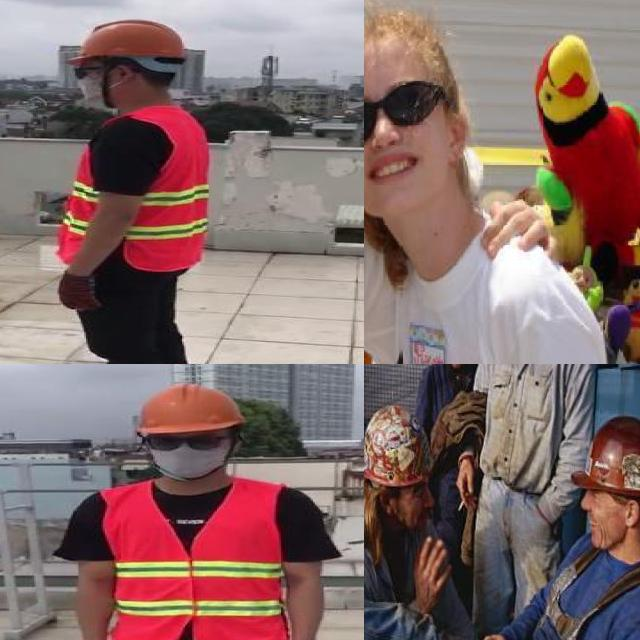Harness: (541, 549, 640, 640)
face_mask: (140, 428, 234, 476)
face_nomask: (364, 84, 432, 186)
glasses: (364, 80, 447, 152), (136, 432, 229, 454)
hand_glove: (54, 274, 97, 311)
hand_noglove: (480, 197, 554, 269)
head_helmet: (134, 376, 240, 434), (62, 17, 188, 64)
head_nohelmet: (364, 4, 438, 81)
person: (364, 22, 622, 364), (54, 381, 349, 640), (28, 9, 222, 364)
vest: (106, 481, 288, 640), (42, 106, 208, 271)
